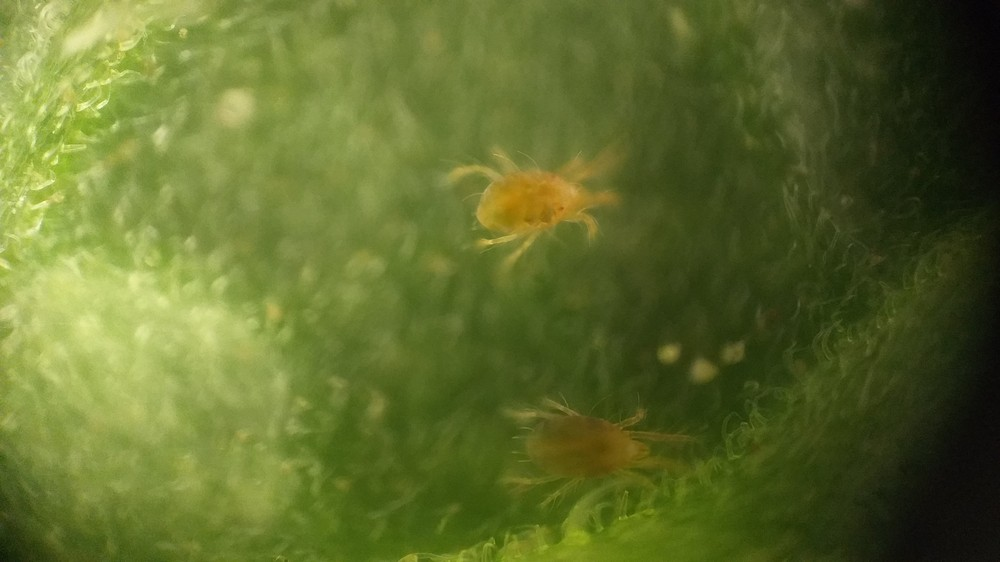Aracnido Rojo: (483, 375, 713, 516), (428, 122, 660, 261)
